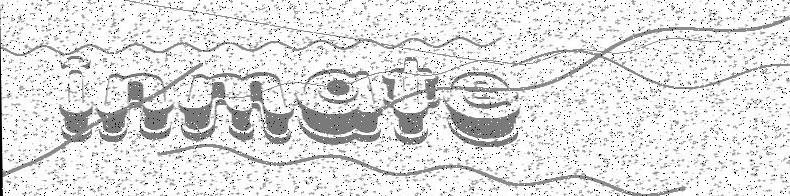a: (297, 69, 382, 144)
e: (447, 72, 520, 147)
i: (59, 56, 93, 143)
m: (178, 72, 295, 144)
n: (96, 73, 175, 143)
t: (384, 58, 441, 145)
